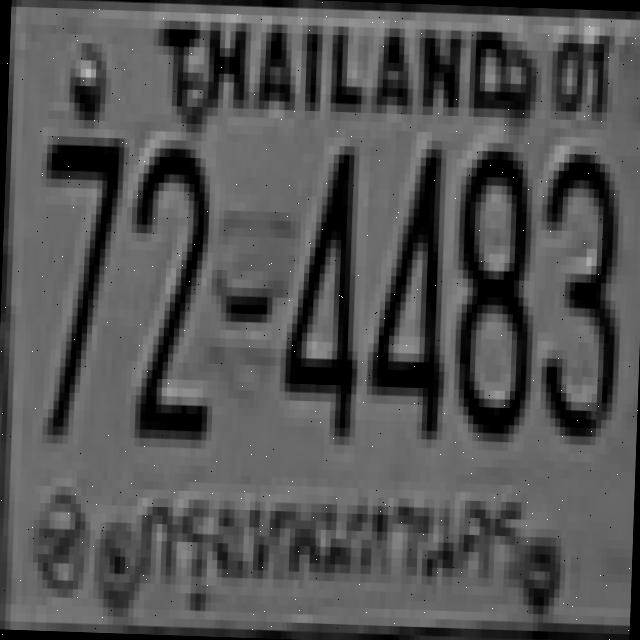2: (126, 142, 214, 436)
3: (534, 144, 620, 437)
4: (365, 138, 447, 430), (278, 140, 360, 432)
7: (31, 126, 119, 436), (33, 127, 119, 394)
8: (446, 141, 534, 434)
Bangkok: (121, 464, 534, 622)
